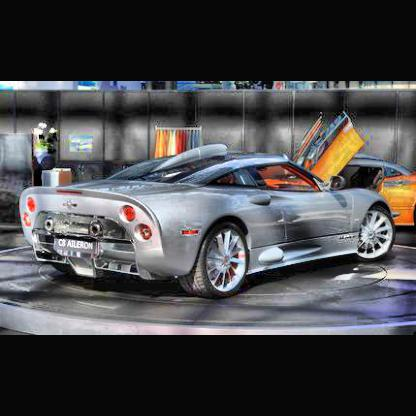Spyker C8 Coupe 2009: (21, 145, 397, 300)
